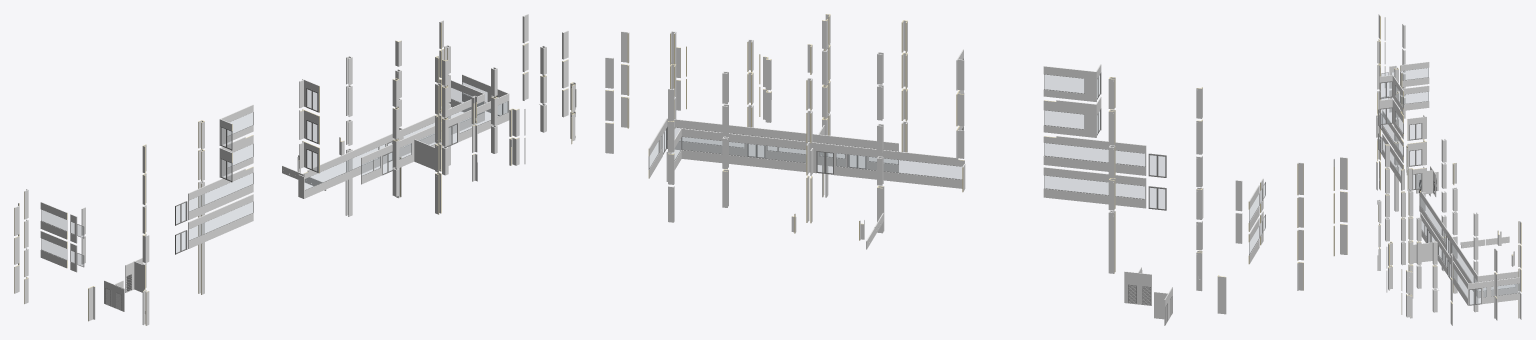
File: a4dd2242-cf37-4da7-8adf-853836396eba.glb
3 views of the same model, side by side, from view 1: azimuth 30°, elevation 25°; view 2: azimuth 150°, elevation 25°; view 3: azimuth 270°, elevation 25° (orthographic). The views are drawn at different scales.
Parts seen in each view (by area): view 1: 4571, 4601, 6691, 4626, 7471, 5378, 4623, 5346, 6686, 4587, 8644, 10229 (+3 smaller); view 2: 4626, 4571, 4601, 6691, 5446, 5346, 8644, 5378, 7471, 4623, 4620, 10229 (+4 smaller); view 3: 6686, 4747, 4579, 4587, 4626, 4571, 6691, 4596, 4601, 4623, 8631, 7467 (+23 smaller).
Boxes of the visible parts, x1=… form: 4571: x1=303, y1=139, x2=378, y2=198; 4601: x1=188, y1=194, x2=253, y2=248; 6691: x1=188, y1=167, x2=253, y2=220; 4626: x1=400, y1=93, x2=484, y2=156; 7471: x1=189, y1=173, x2=252, y2=211; 5378: x1=189, y1=202, x2=252, y2=240; 4623: x1=459, y1=93, x2=509, y2=141; 5346: x1=305, y1=148, x2=377, y2=189; 6686: x1=40, y1=202, x2=77, y2=243; 4587: x1=40, y1=231, x2=77, y2=272; 8644: x1=220, y1=135, x2=253, y2=176; 10229: x1=220, y1=104, x2=253, y2=144; 4626: x1=680, y1=128, x2=813, y2=172; 4571: x1=847, y1=146, x2=965, y2=188; 4601: x1=1043, y1=167, x2=1146, y2=208; 6691: x1=1043, y1=136, x2=1146, y2=175; 5446: x1=682, y1=137, x2=805, y2=162; 5346: x1=848, y1=155, x2=961, y2=179; 8644: x1=1043, y1=100, x2=1095, y2=137; 5378: x1=1044, y1=176, x2=1144, y2=198; 7471: x1=1044, y1=143, x2=1144, y2=165; 4623: x1=667, y1=118, x2=744, y2=155; 4620: x1=778, y1=130, x2=845, y2=166; 10229: x1=1043, y1=66, x2=1095, y2=101; 6686: x1=1389, y1=62, x2=1429, y2=88; 4747: x1=1478, y1=271, x2=1518, y2=298; 4579: x1=1487, y1=277, x2=1519, y2=303; 4587: x1=1389, y1=85, x2=1429, y2=112; 4626: x1=1450, y1=236, x2=1478, y2=298; 4571: x1=1419, y1=191, x2=1443, y2=245; 6691: x1=1382, y1=110, x2=1403, y2=163; 4596: x1=1413, y1=242, x2=1437, y2=263; 4601: x1=1382, y1=133, x2=1403, y2=182; 4623: x1=1452, y1=261, x2=1468, y2=305; 8631: x1=1408, y1=142, x2=1426, y2=167; 7467: x1=1401, y1=68, x2=1428, y2=79.
Bounding box in the file's own units: 76.43 × 22.34 × 19.49.
